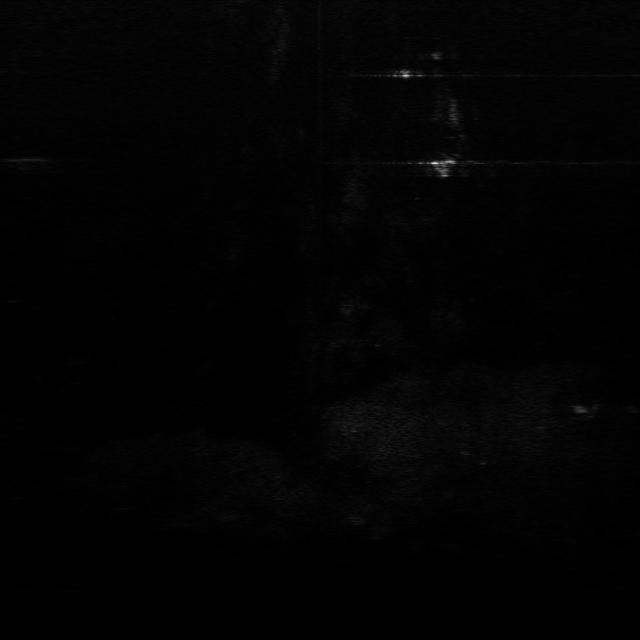rov: (426, 156, 462, 180)
